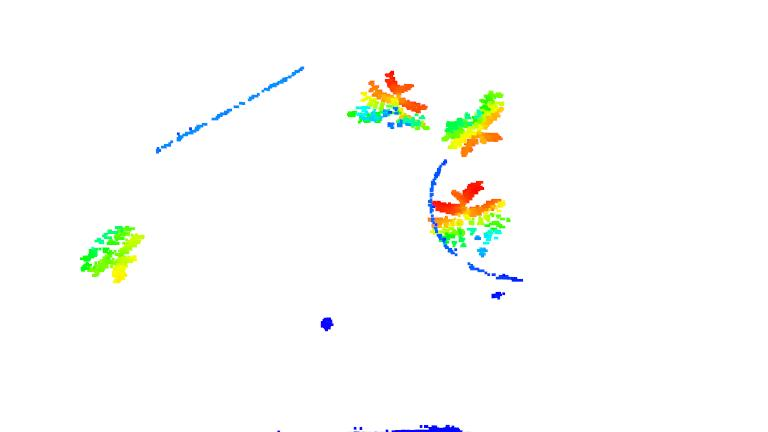chickpea: (427, 178, 508, 257), (346, 69, 435, 135), (440, 85, 513, 157), (80, 221, 148, 284)
